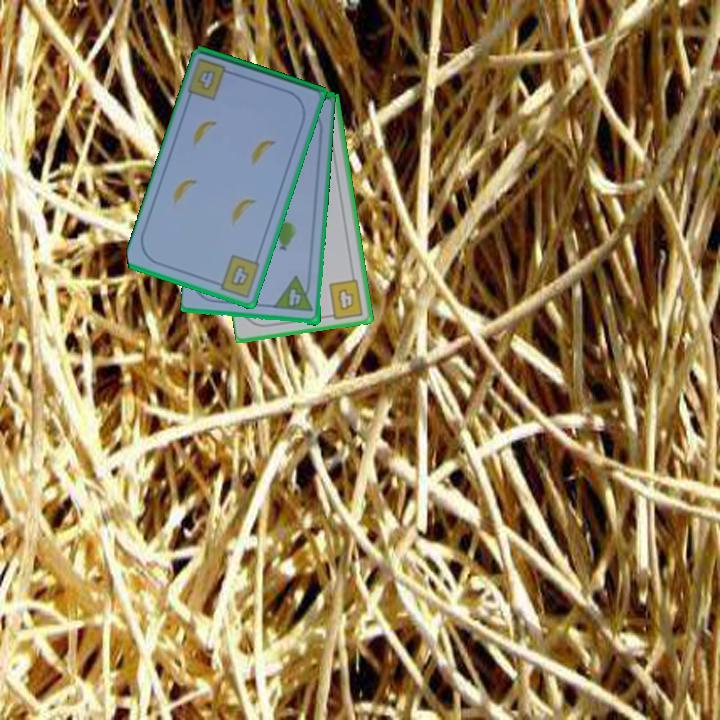4b: (211, 251, 263, 300), (323, 276, 366, 322), (194, 67, 219, 94)
4p: (272, 274, 316, 315)
